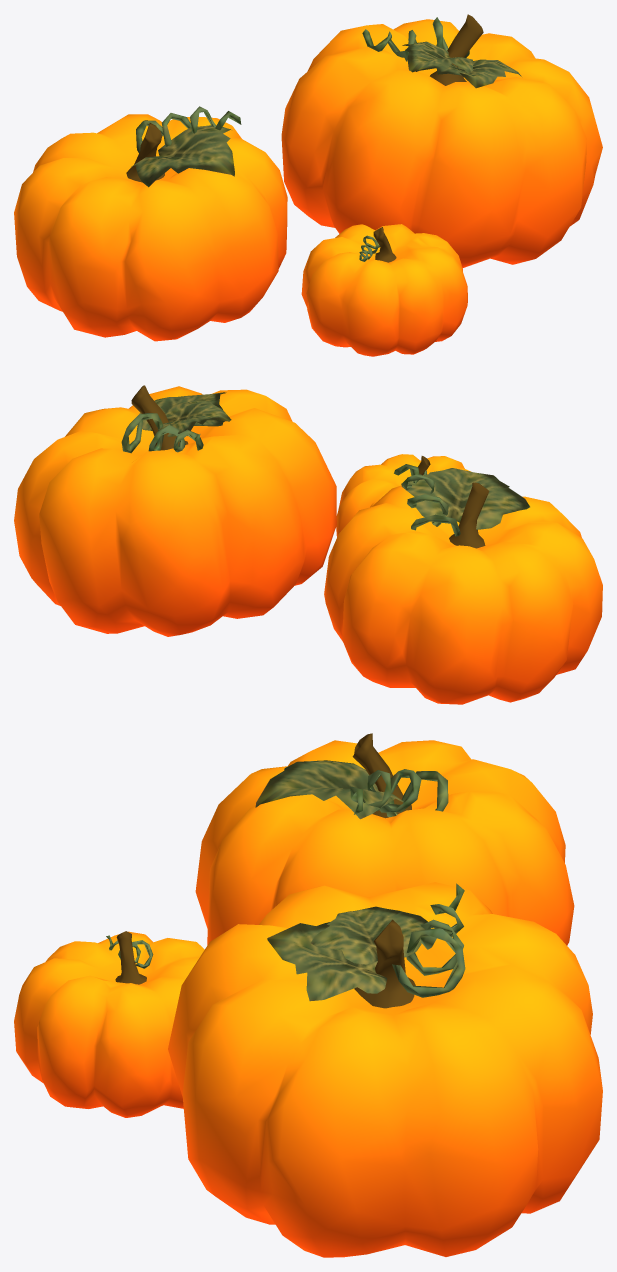
Rendered from PlainPumpkinCluster.glb.
3 views of the same model, one above another, from view 1: azimuth 30°, elevation 25°; view 2: azimuth 150°, elevation 25°; view 3: azimuth 270°, elevation 25° (orthographic). The views are drawn at different scales.
Visible parts, largest first — view 1: PlainPumpkinCluster; view 2: PlainPumpkinCluster; view 3: PlainPumpkinCluster.
Boxes of the visible parts, x1=… form: PlainPumpkinCluster: x1=14, y1=14, x2=602, y2=356; PlainPumpkinCluster: x1=14, y1=385, x2=602, y2=704; PlainPumpkinCluster: x1=14, y1=733, x2=602, y2=1257.
Size of what is drawn, in the model's own units: 1.51 by 0.5846 by 1.03.
1 material, 1 textured.
